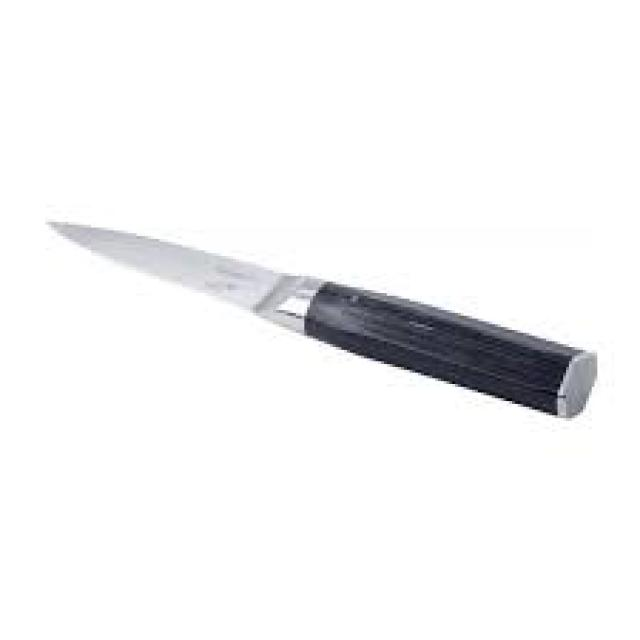knives: (40, 208, 603, 430)
